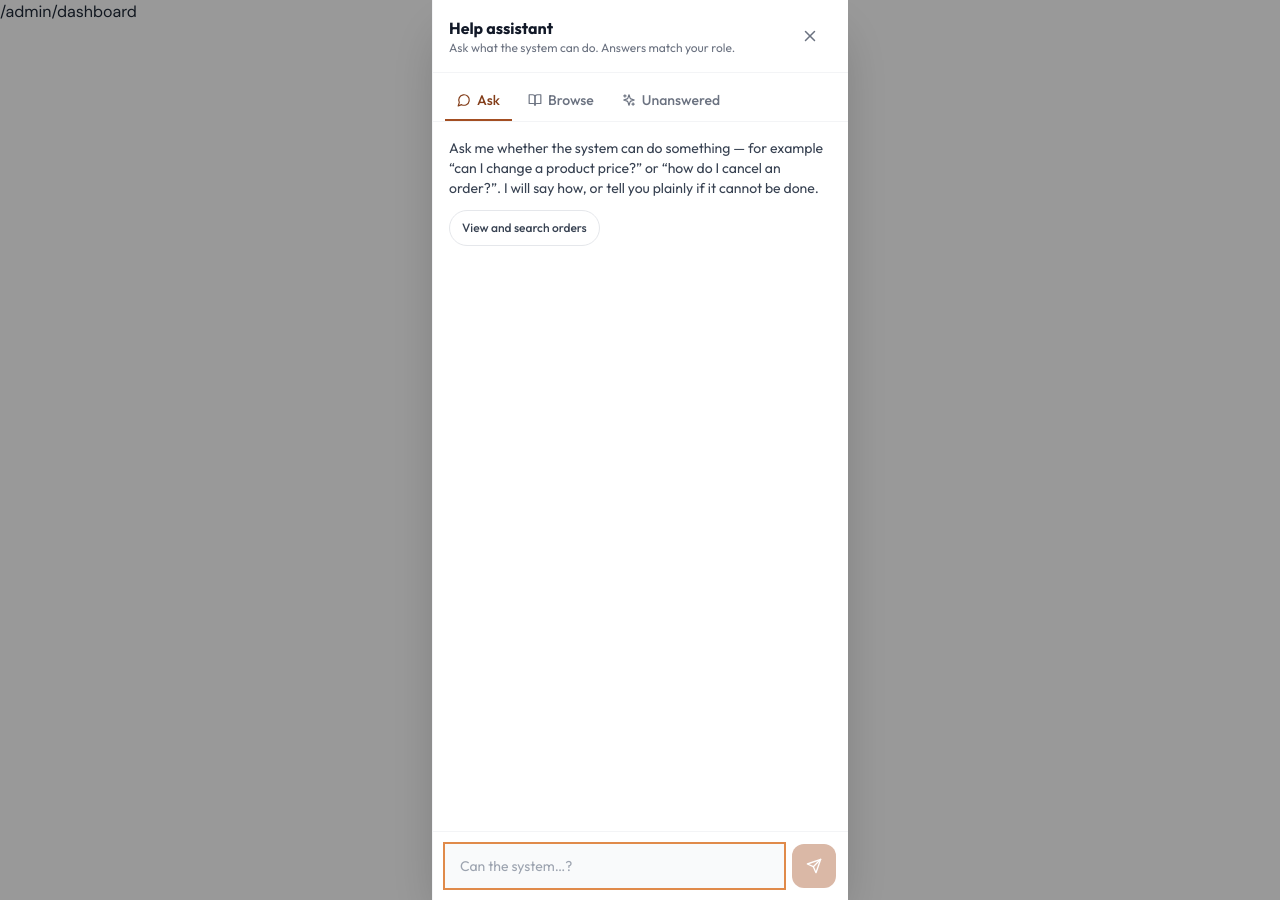
AssistantPanel › only the superadmin gets the unanswered-questions tab
This screenshot has width=1280, height=900.
Click the tab "Unanswered": (671, 101) [610,81,732,121]
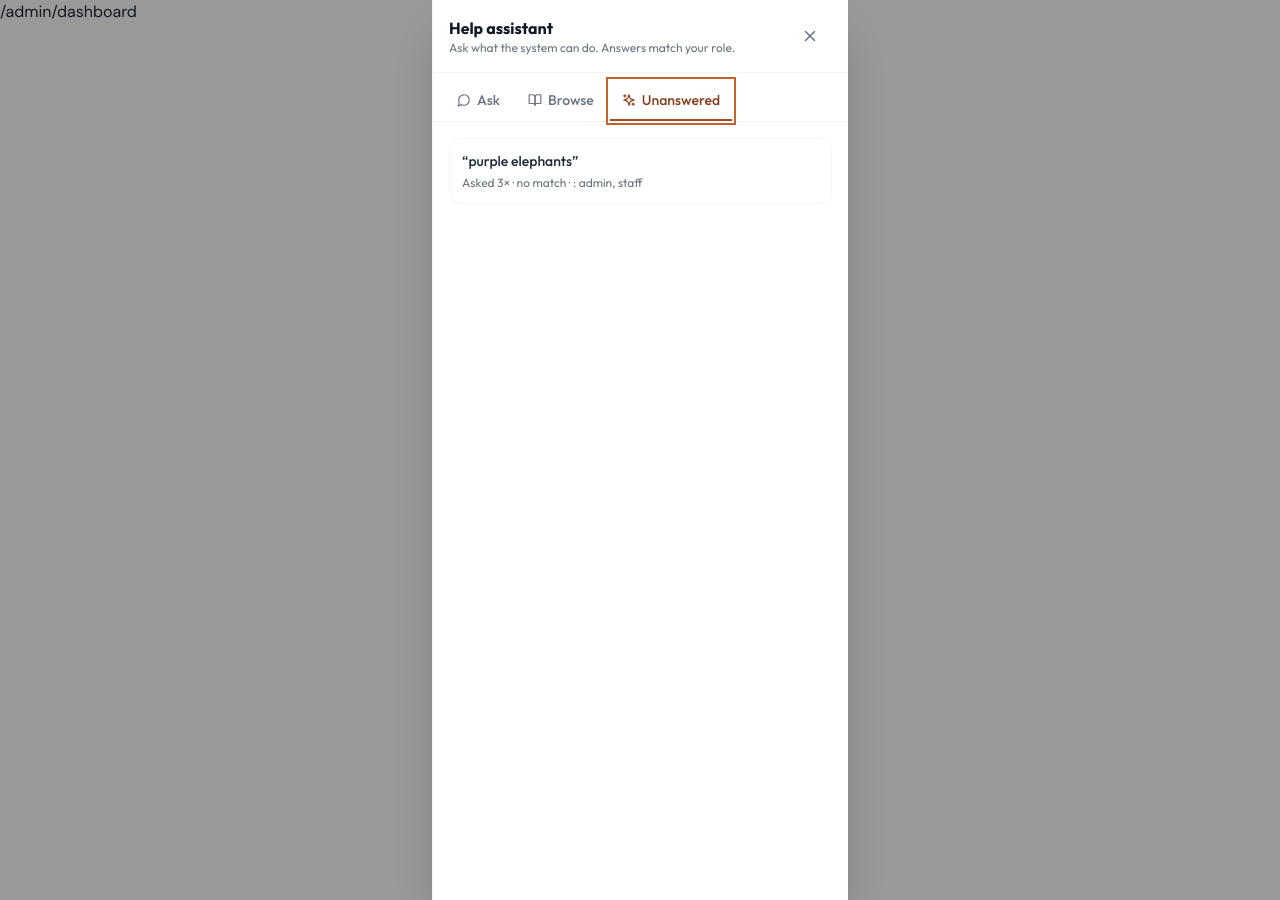
Check: the text "“purple elephants”" is shown, box [462,152,578,170]
Check: the text "Asked 3× · no match · : admin, staff" is shown, box [462,175,642,190]
